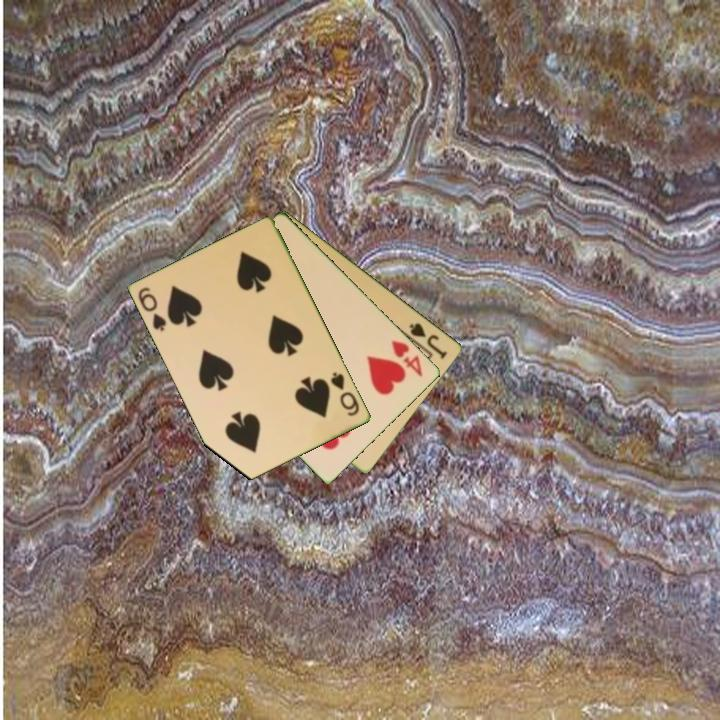4h: (388, 337, 426, 380)
6s: (328, 368, 363, 420), (135, 284, 170, 334)
Js: (406, 319, 451, 362)
